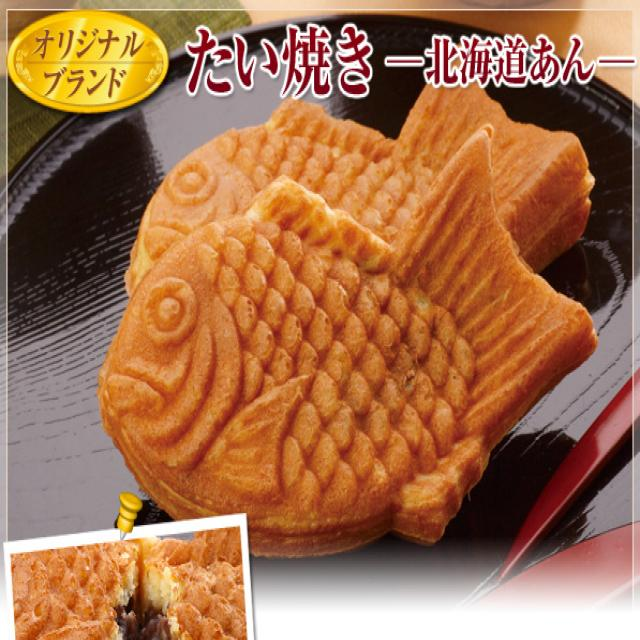熟制海鲜: (100, 100, 620, 534)
